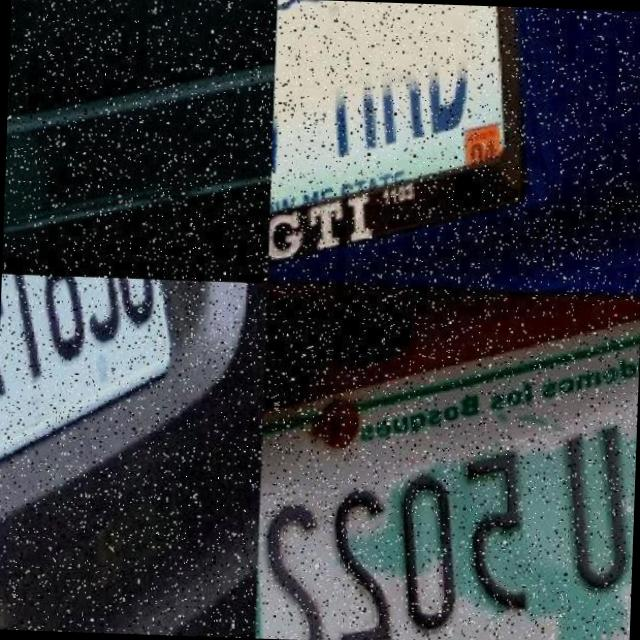LicensePlate: (254, 357, 638, 640), (270, 0, 506, 221), (0, 272, 181, 472), (42, 0, 179, 53)
